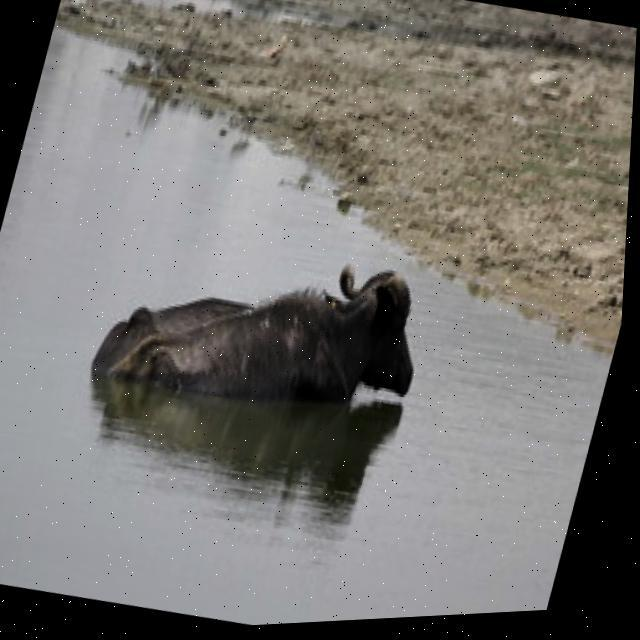Buffalo: (81, 205, 443, 448)
